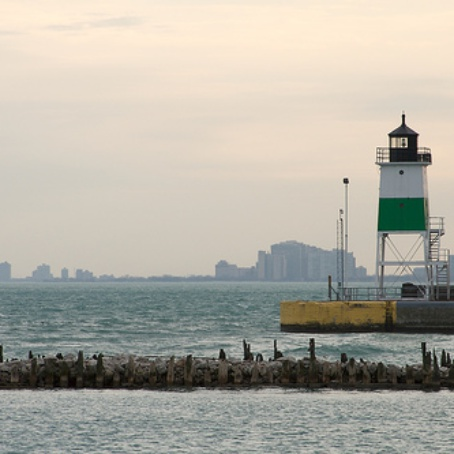building: (372, 122, 438, 304), (264, 237, 349, 276), (209, 256, 258, 280)
sea: (1, 393, 454, 454), (1, 278, 331, 359)
sky: (5, 1, 454, 249)
